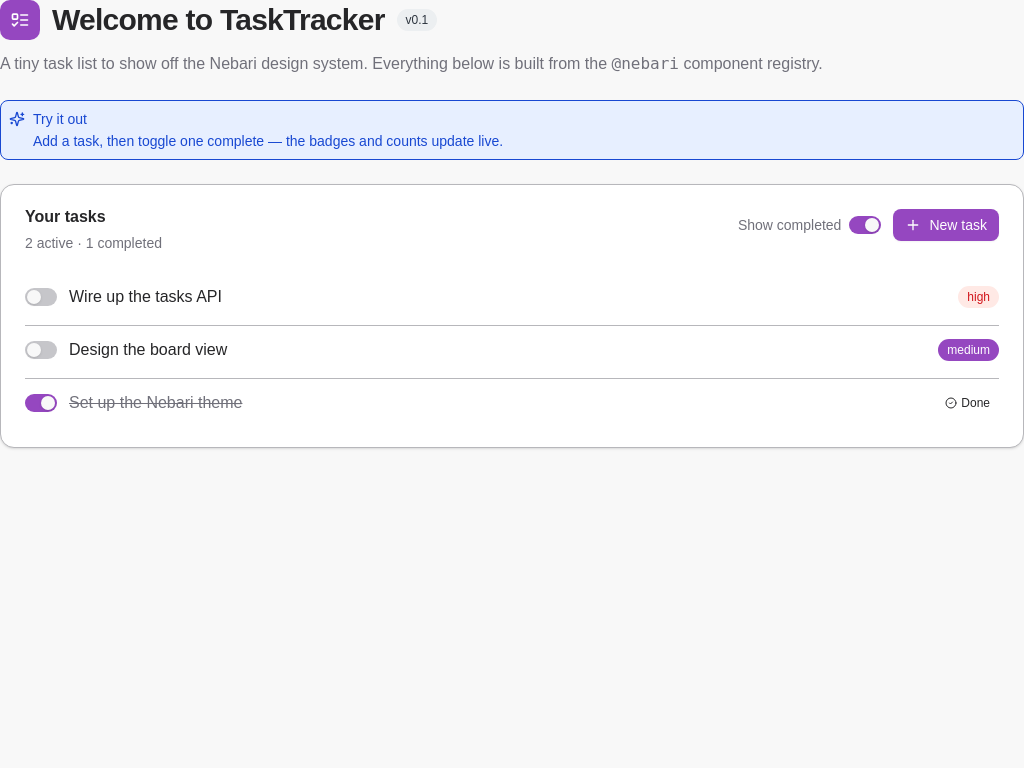
Scenario: Home › creates a task from the dialog
Click the button "New task" at coordinates (946, 225), box left=893, top=209, right=999, bottom=241
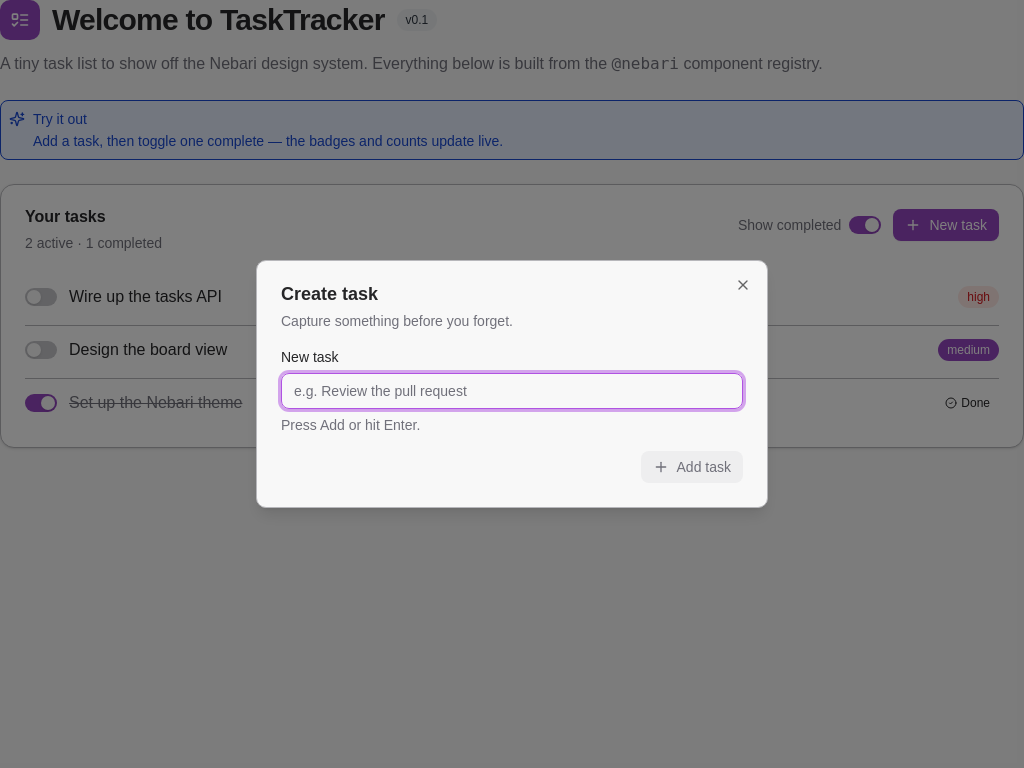
Type "Review the pull request" into the field labelled "New task" at coordinates (512, 391), box left=281, top=373, right=743, bottom=409
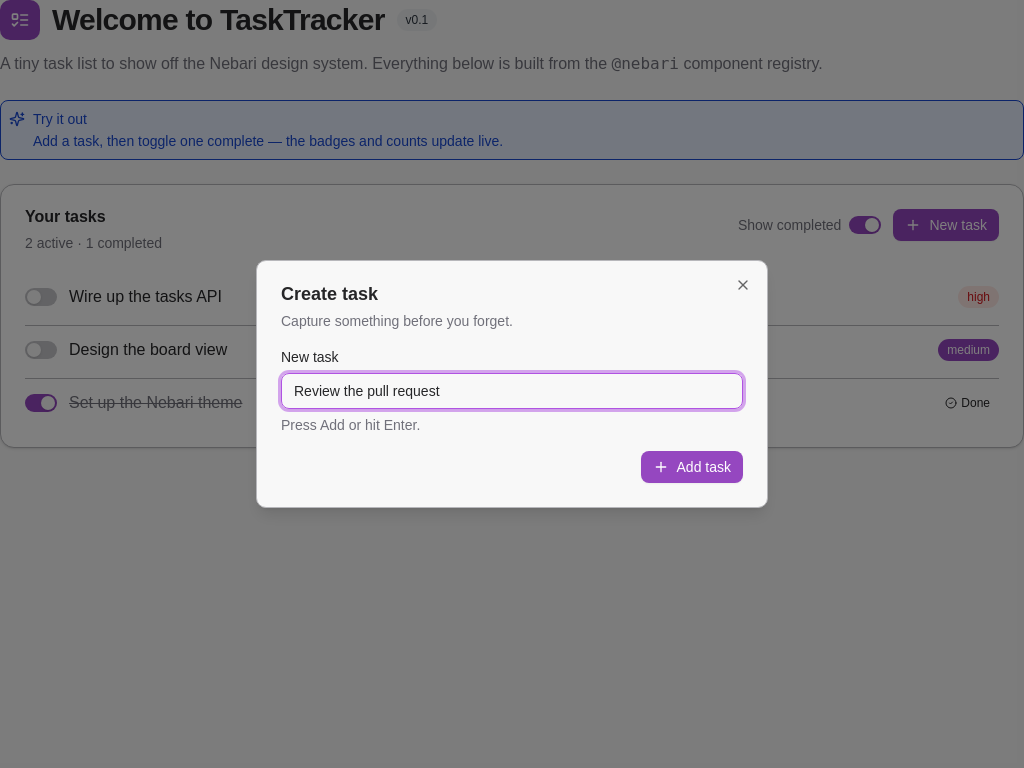
Click the button "Add task" at coordinates (692, 467), box left=640, top=451, right=743, bottom=483
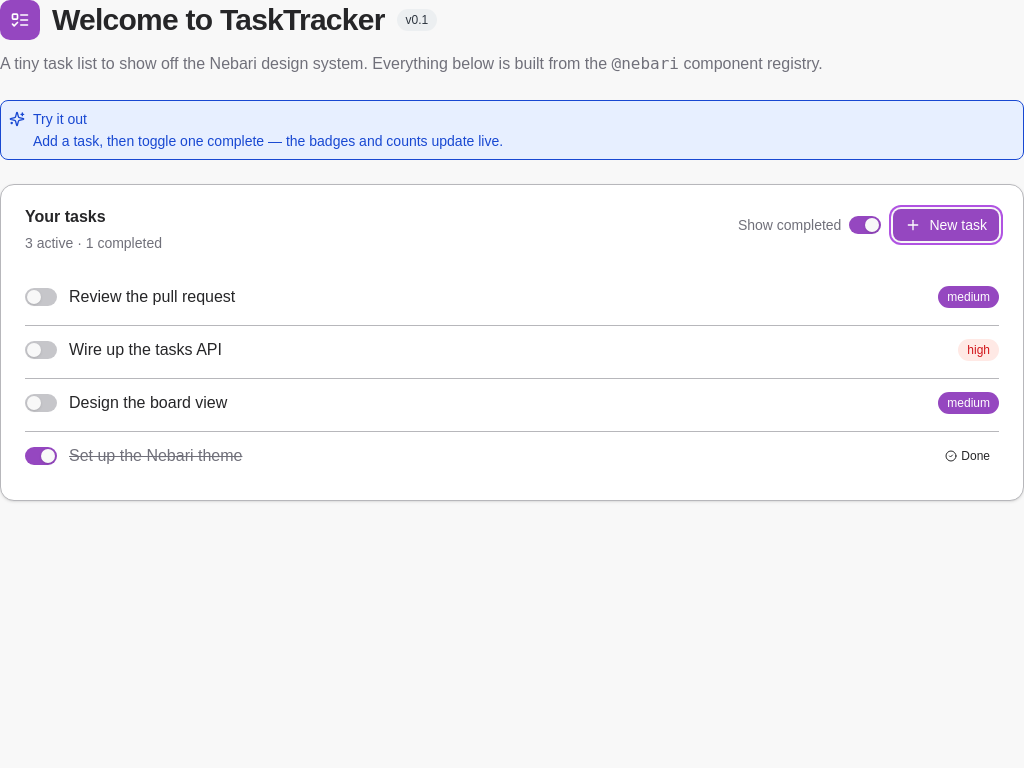
Check: the text "Review the pull request" is shown, box left=69, top=288, right=235, bottom=305
Check: the heading "Create task" is gone
